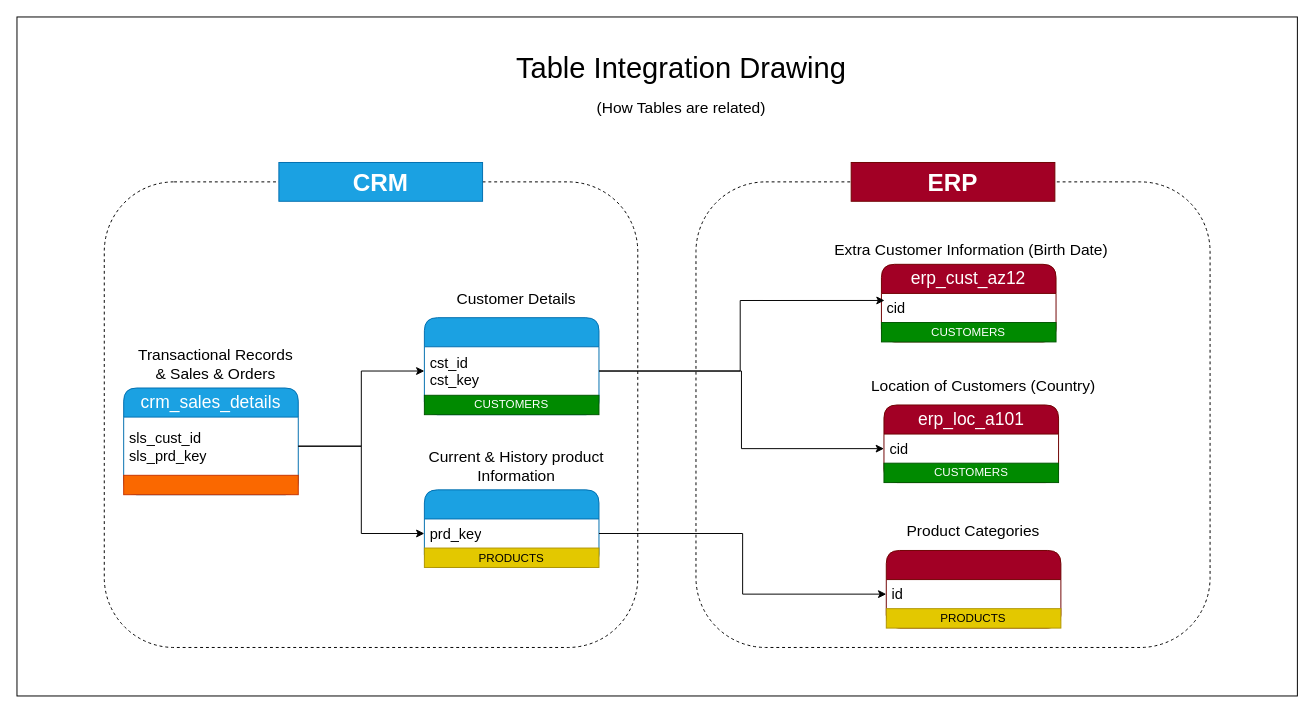
Some shapes in this 1314 by 713 pixel diagram are drawn without their labels. Each missing label, with the box of its shape:
crm_cust_info: (423, 317, 599, 415)
crm_prd_info: (423, 489, 599, 567)
erp_px_cat_g1v2: (885, 550, 1061, 628)
SALES: (123, 474, 298, 495)
